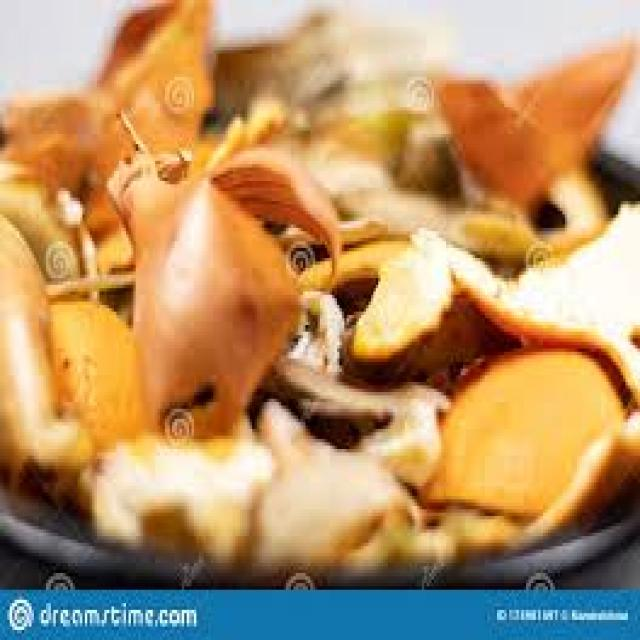organic waste: (107, 144, 337, 436), (412, 194, 638, 396), (427, 345, 626, 509), (424, 40, 635, 194), (80, 402, 267, 553), (0, 211, 87, 499), (250, 399, 412, 553), (2, 90, 134, 275), (347, 228, 480, 378), (512, 392, 638, 546), (213, 10, 347, 151), (89, 0, 213, 137), (267, 342, 446, 436), (46, 292, 143, 449), (344, 496, 514, 576), (456, 178, 613, 262), (315, 138, 451, 222), (310, 108, 451, 184), (0, 157, 85, 275), (354, 396, 446, 490), (291, 228, 414, 285), (291, 278, 349, 379), (216, 90, 284, 141)
